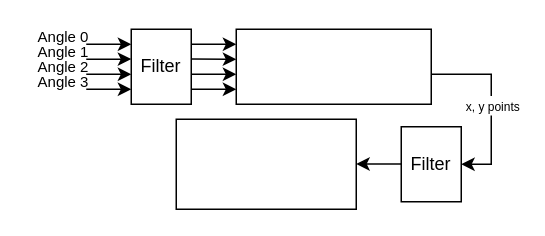
Some shapes in this 545 by 236 pixel diagram are drawn without their labels. The box of each missing label's shape, as (x1, y1, x2, y2) in pixels:
Barycenter / Least Squares calculation algorithm: (235, 28, 431, 104)
Statistics / Output visualization: (175, 118, 356, 209)
